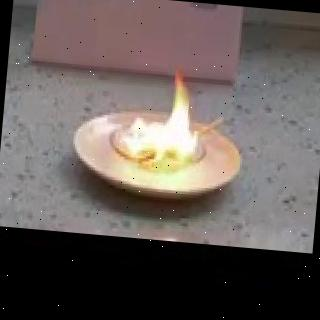fire: (120, 26, 208, 170)
